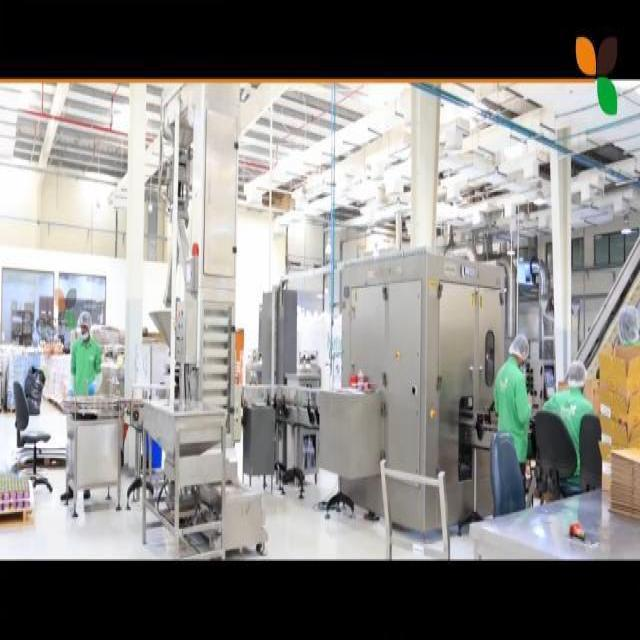gloved_hand: (87, 371, 98, 399)
